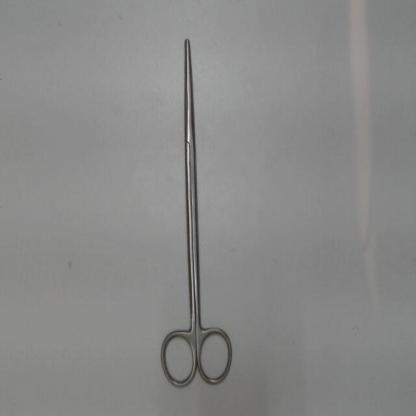9 Metzenbaum Scissors: (155, 35, 236, 391)
